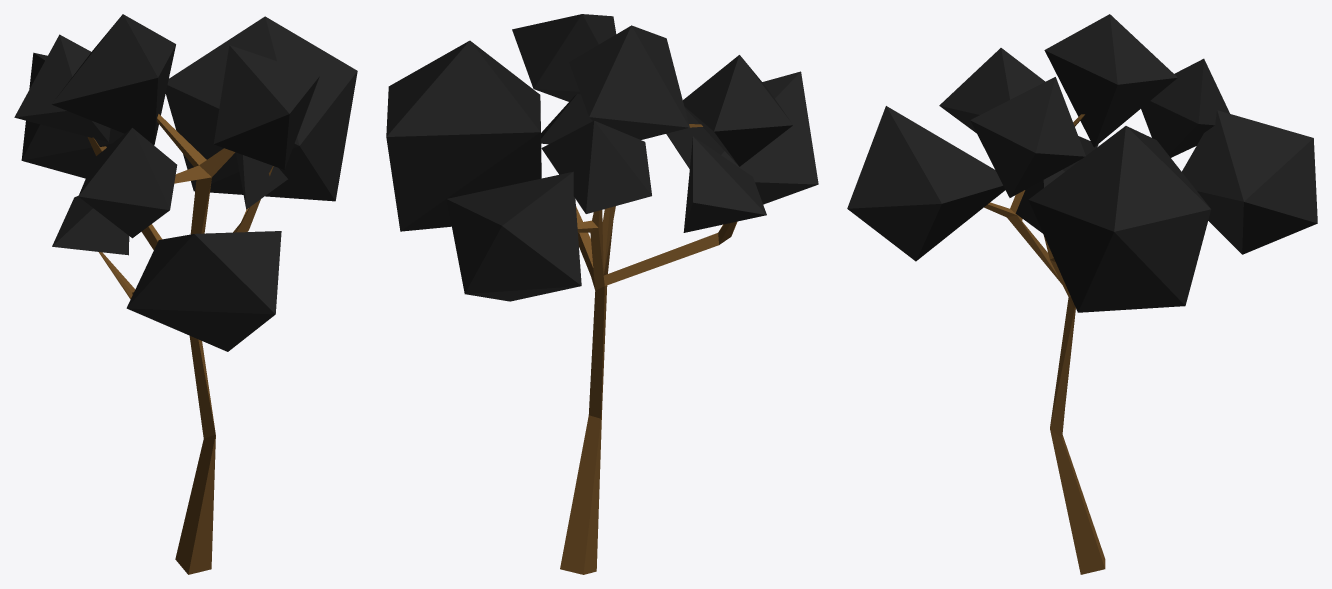
File: treesBurnout.fbx
3 renders of one model, left to right at view 1: azimuth 30°, elevation 25°; view 2: azimuth 150°, elevation 25°; view 3: azimuth 270°, elevation 25°, orthographic. The views are drawn at different scales.
Parts seen in each view (by area): view 1: tree; view 2: tree; view 3: tree.
Boxes of the visible parts, box(x1,y1,x2,y2) form: tree: box(14, 14, 357, 574); tree: box(386, 14, 818, 574); tree: box(847, 14, 1317, 574).
Bounding box in the file's own units: 405 × 640 × 518.
